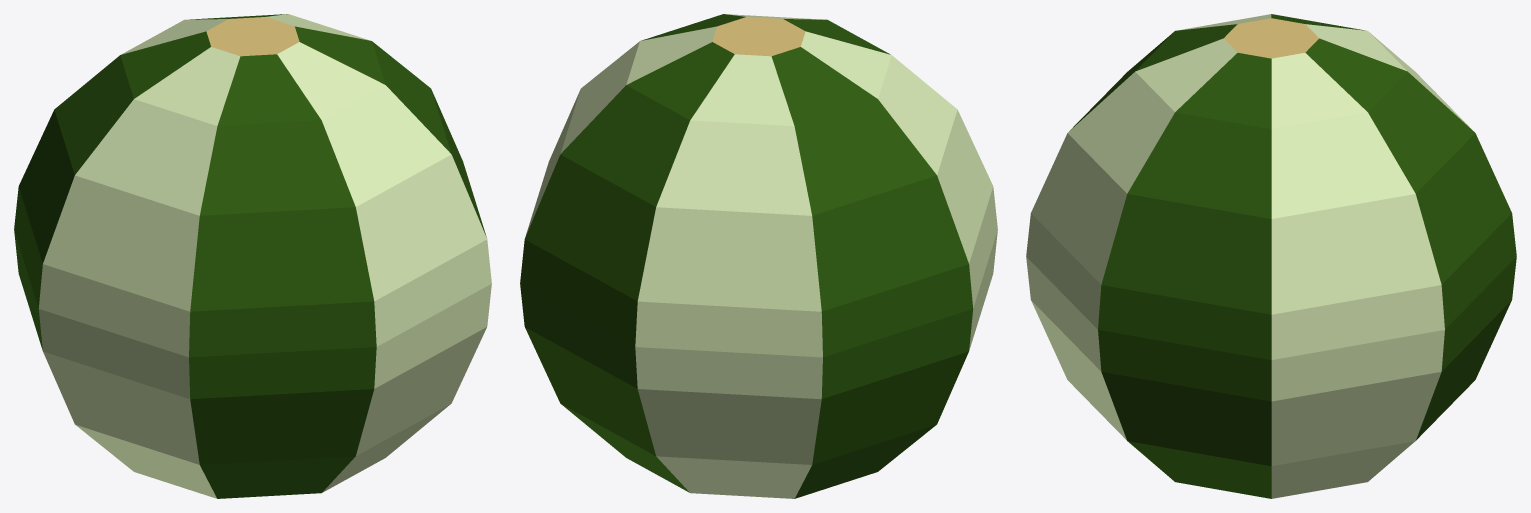
File: SmallBall.fbx
3 views of the same model, side by side, from view 1: azimuth 30°, elevation 25°; view 2: azimuth 150°, elevation 25°; view 3: azimuth 270°, elevation 25° (orthographic).
Parts seen in each view (by area): view 1: SmallBall; view 2: SmallBall; view 3: SmallBall.
Part boxes in pixels (box(x1,y1,x2,y2)): SmallBall: box(14, 14, 491, 498); SmallBall: box(520, 14, 997, 498); SmallBall: box(1026, 14, 1516, 498).
Bounding box in the file's own units: 72 × 70.62 × 72.
